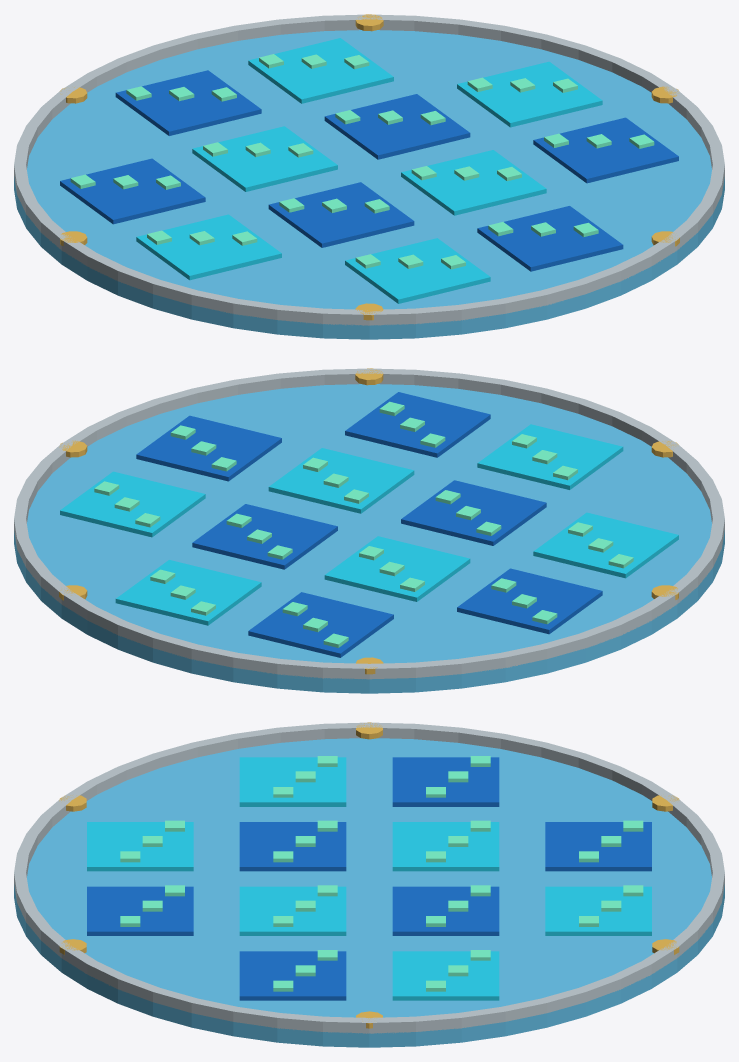
Rendered from 24_L75_PatternedSiliconWafer.fbx.
The picture shows the model from 3 angles, top to bottom: view 1: azimuth 30°, elevation 25°; view 2: azimuth 150°, elevation 25°; view 3: azimuth 270°, elevation 25°; orthographic projection.
Visible parts, largest first — view 1: PatternedSiliconWafer; view 2: PatternedSiliconWafer; view 3: PatternedSiliconWafer.
Part boxes in pixels (box(x1,y1,x2,y2)): PatternedSiliconWafer: box(14, 14, 724, 339); PatternedSiliconWafer: box(14, 368, 724, 693); PatternedSiliconWafer: box(14, 722, 724, 1047).
Bounding box in the file's own units: 160 × 6.25 × 160.
